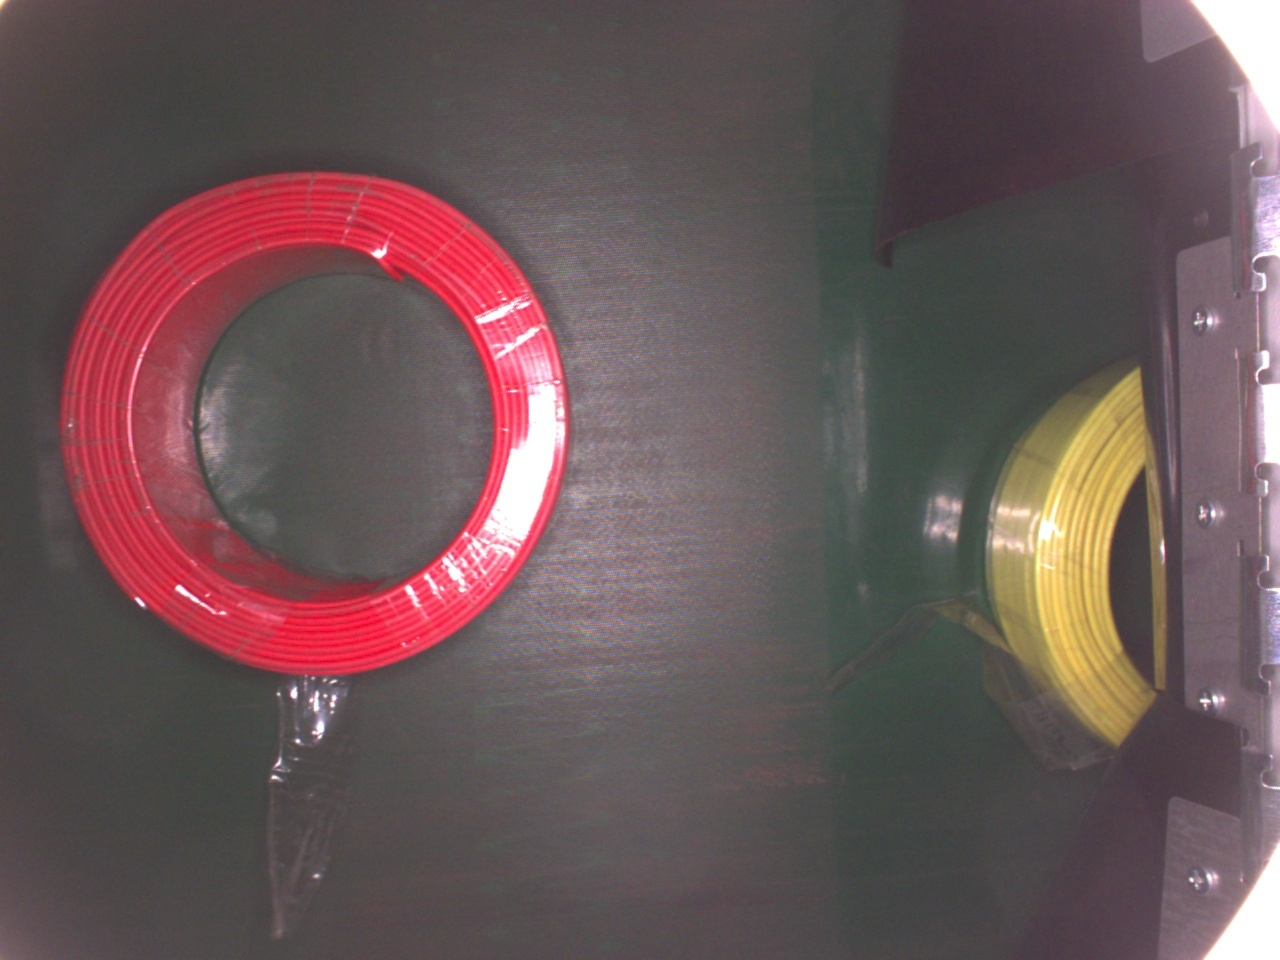red: (54, 166, 570, 682)
yellow: (982, 358, 1156, 750)
